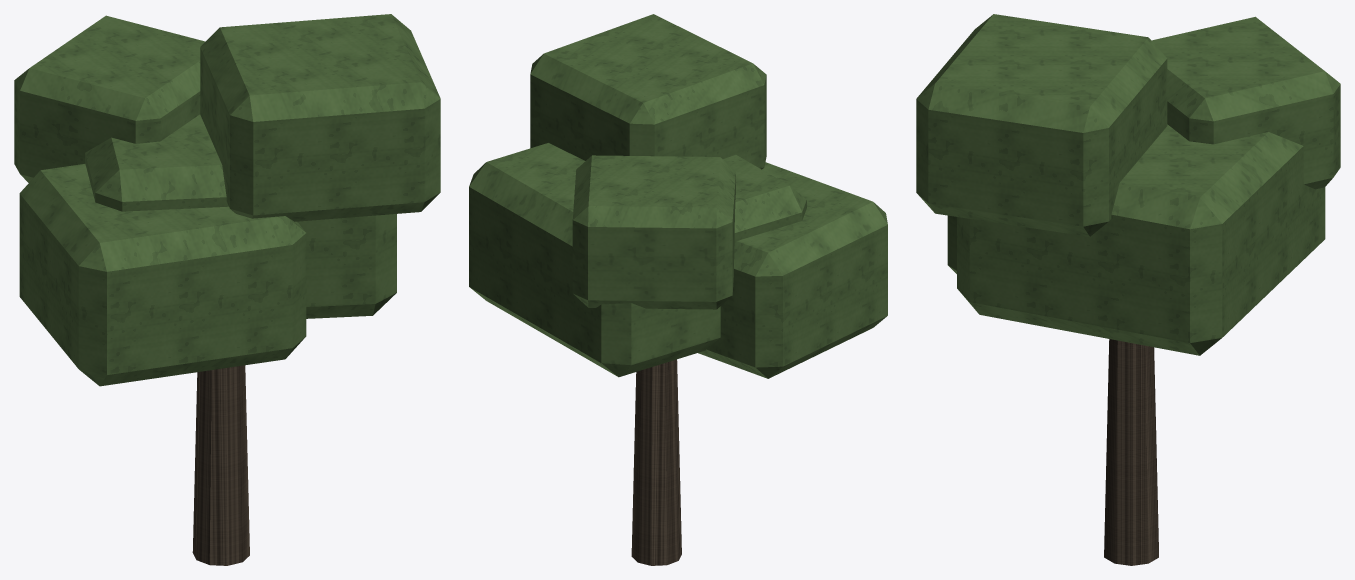
Rendered from oak_tree_b.glb.
3 views of the same model, side by side, from view 1: azimuth 30°, elevation 25°; view 2: azimuth 150°, elevation 25°; view 3: azimuth 270°, elevation 25° (orthographic). The views are drawn at different scales.
Parts seen in each view (by area): view 1: OakTreeB; view 2: OakTreeB; view 3: OakTreeB.
Part boxes in pixels (<box>): OakTreeB: <box>14,14,440,565</box>; OakTreeB: <box>469,14,887,565</box>; OakTreeB: <box>916,14,1340,565</box>.
Bounding box in the file's own units: 3.86 × 5.01 × 3.71.
Materials: 2 (2 with a texture image).
